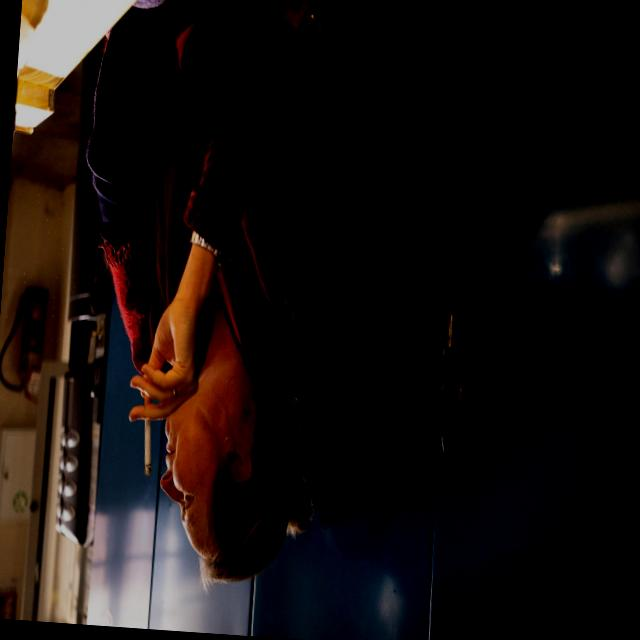cigarette: (129, 408, 170, 497)
